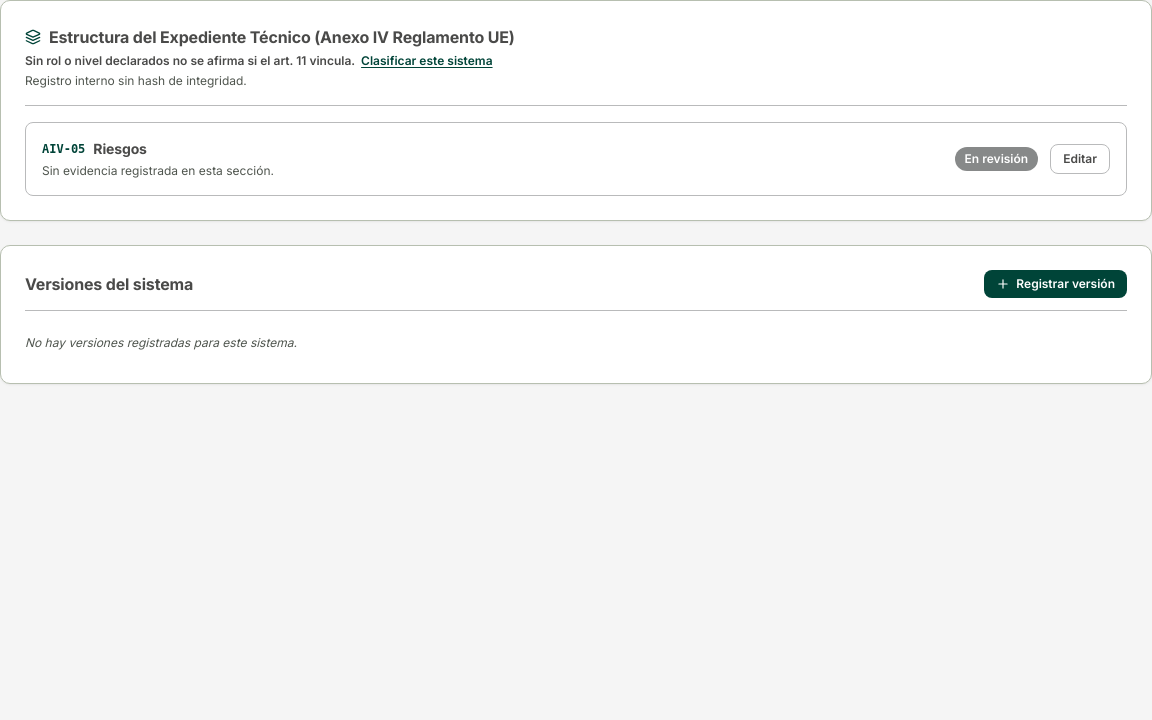
Test: F1.T7 — el selector de la sección no ofrece estados que exigen revisor › control positivo: una sección en revisión conserva su estado al abrirla
Click the button "Editar". click: point(1080, 159)
box: [1050,144,1110,174]
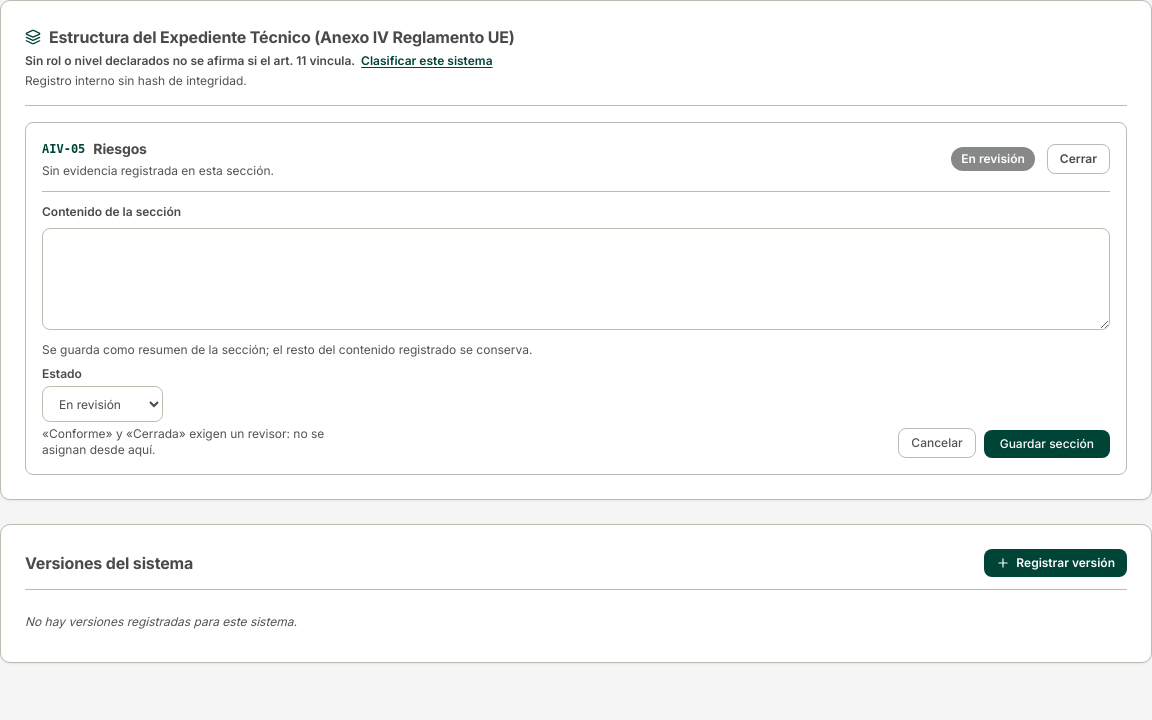
Now the dropdown labelled "Estado" shows "En revisión", box [42,386,163,422]
